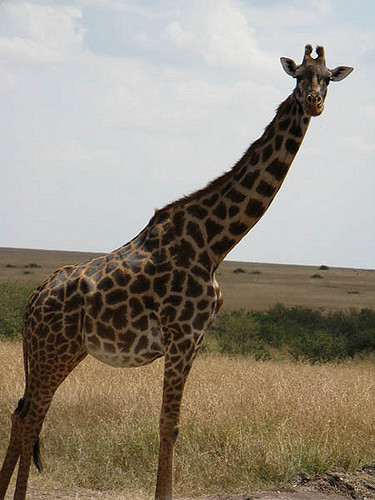giraffe: (20, 38, 358, 473)
